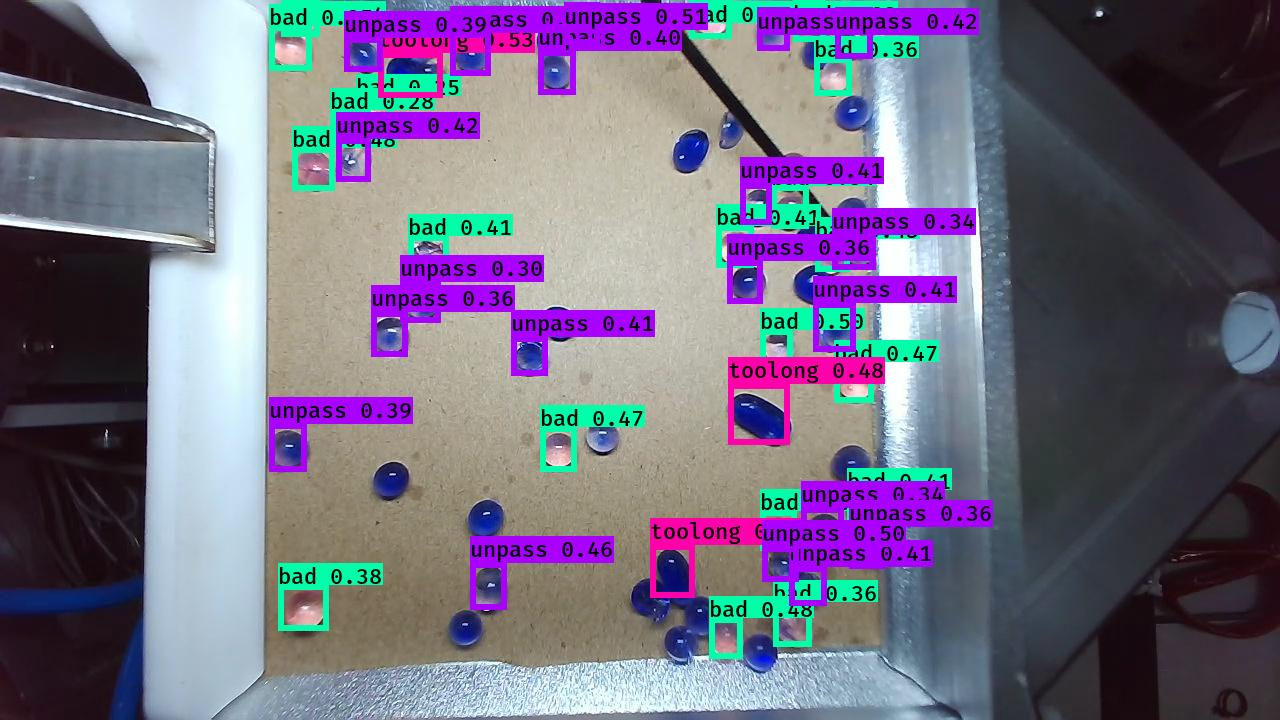bad: (769, 600, 816, 647), (282, 586, 327, 634), (291, 148, 338, 192), (766, 148, 813, 189), (272, 29, 313, 70), (706, 617, 747, 658), (690, 1, 735, 38), (833, 368, 875, 406), (540, 427, 576, 469), (355, 94, 392, 134), (716, 228, 753, 266), (774, 192, 811, 230), (817, 57, 851, 98), (279, 1, 320, 35), (409, 239, 451, 272), (845, 497, 884, 532), (814, 240, 850, 277), (762, 330, 796, 367), (797, 1, 828, 41), (329, 118, 365, 152), (764, 516, 798, 549)
defact: (717, 112, 743, 151)
pass: (626, 574, 672, 627), (668, 128, 712, 176), (465, 498, 508, 542), (830, 441, 870, 488), (370, 460, 410, 504), (730, 262, 768, 305), (682, 594, 720, 636), (742, 633, 780, 675), (793, 263, 831, 304), (835, 95, 872, 137), (449, 607, 484, 651), (833, 196, 870, 236), (540, 302, 578, 340), (536, 23, 573, 59), (662, 625, 698, 662), (799, 33, 832, 71), (791, 222, 826, 257)
toolong: (728, 390, 795, 449), (654, 542, 695, 602), (385, 54, 445, 93)
unpass: (832, 3, 874, 59), (817, 305, 861, 355), (267, 428, 313, 473), (468, 564, 506, 614), (370, 316, 410, 358), (582, 417, 621, 457), (401, 27, 440, 65), (805, 512, 842, 552), (537, 52, 574, 92), (401, 284, 439, 322), (344, 38, 381, 77), (739, 188, 776, 227), (336, 141, 373, 180), (852, 530, 889, 569), (755, 10, 790, 51), (513, 338, 548, 378), (565, 4, 600, 43), (454, 38, 490, 74), (793, 568, 827, 604), (843, 235, 878, 269), (766, 549, 800, 583)
